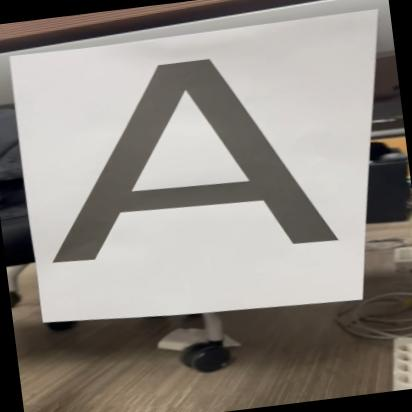seat: (25, 37, 353, 278)
